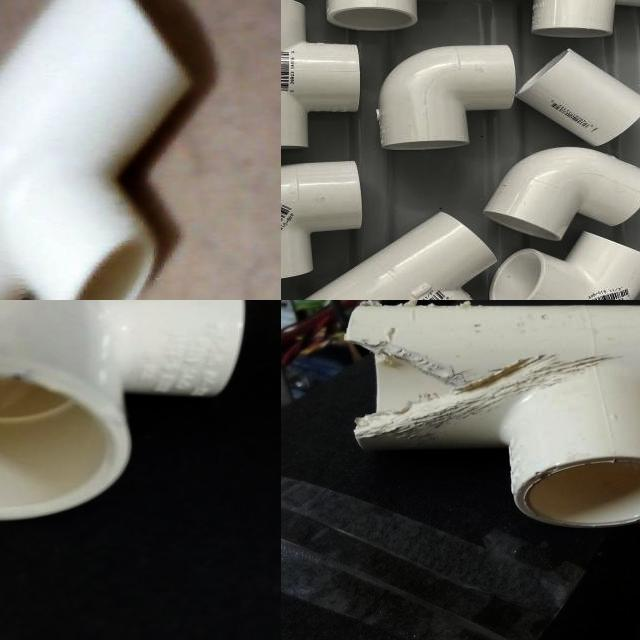Defective: (354, 354, 598, 448), (344, 303, 411, 361)
L Joint: (377, 45, 518, 155), (483, 147, 640, 243), (281, 161, 364, 281), (494, 238, 640, 300), (326, 0, 421, 35)
T Joint: (344, 302, 640, 531), (304, 209, 497, 300), (281, 0, 362, 150)
